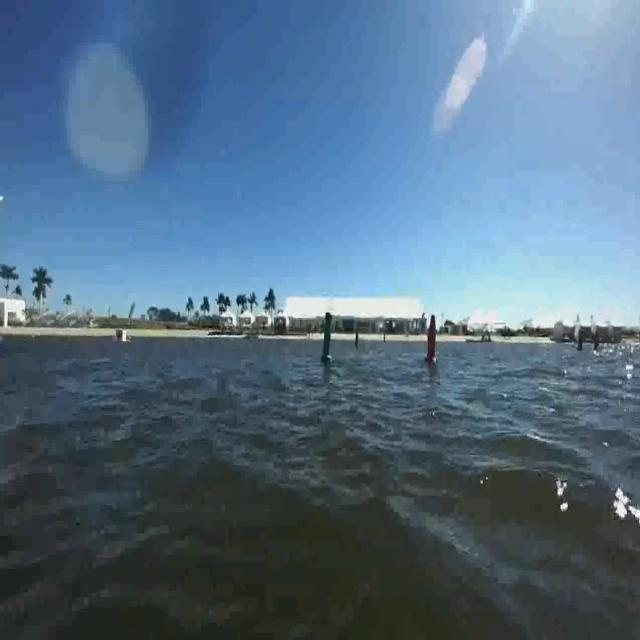green-column-buoy: (320, 310, 337, 363)
red-column-buoy: (424, 314, 439, 364)
